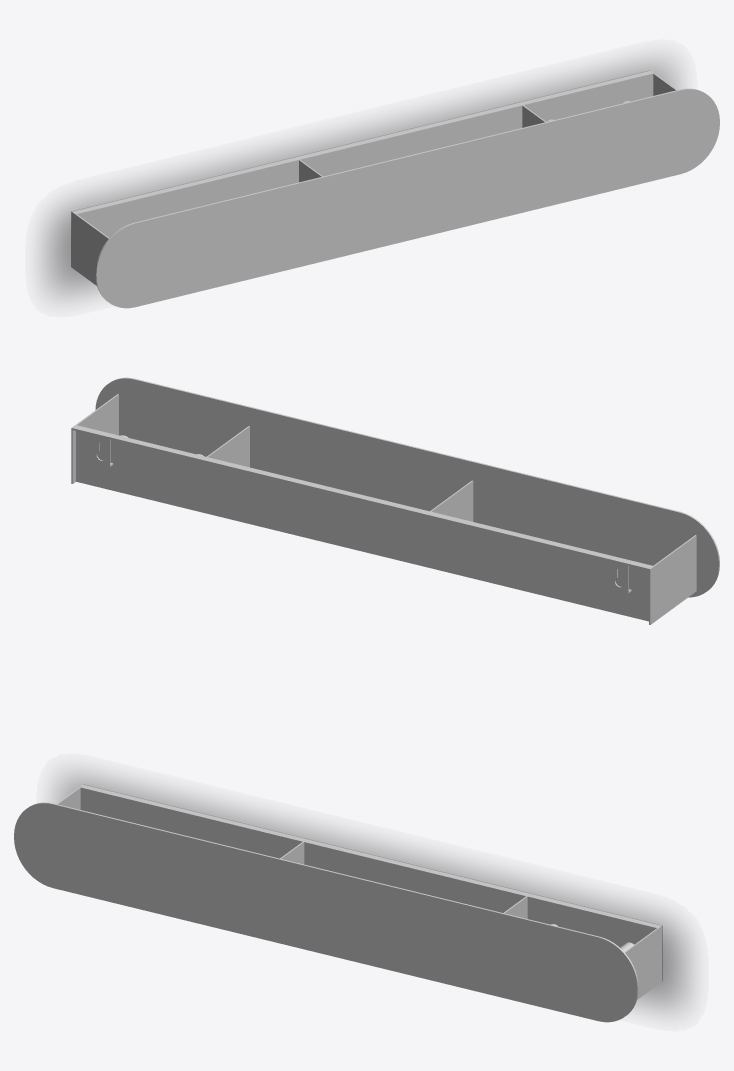
Rendered from round-patron.8efe42843f.ar.glb.
3 views of the same model, one above another, from view 1: azimuth 30°, elevation 25°; view 2: azimuth 150°, elevation 25°; view 3: azimuth 330°, elevation 25° (orthographic).
Visible parts, largest first — view 1: NAUO1, object 2; view 2: NAUO1; view 3: NAUO1, object 2.
Boxes of the visible parts, x1=… form: NAUO1: x1=71, y1=70, x2=719, y2=308; object 2: x1=42, y1=59, x2=679, y2=297; NAUO1: x1=71, y1=377, x2=719, y2=624; NAUO1: x1=14, y1=784, x2=662, y2=1022; object 2: x1=54, y1=773, x2=691, y2=1011.
Bounding box in the file's own units: 0.78 × 0.17 × 0.092.
Materials: 2 (1 with a texture image).
